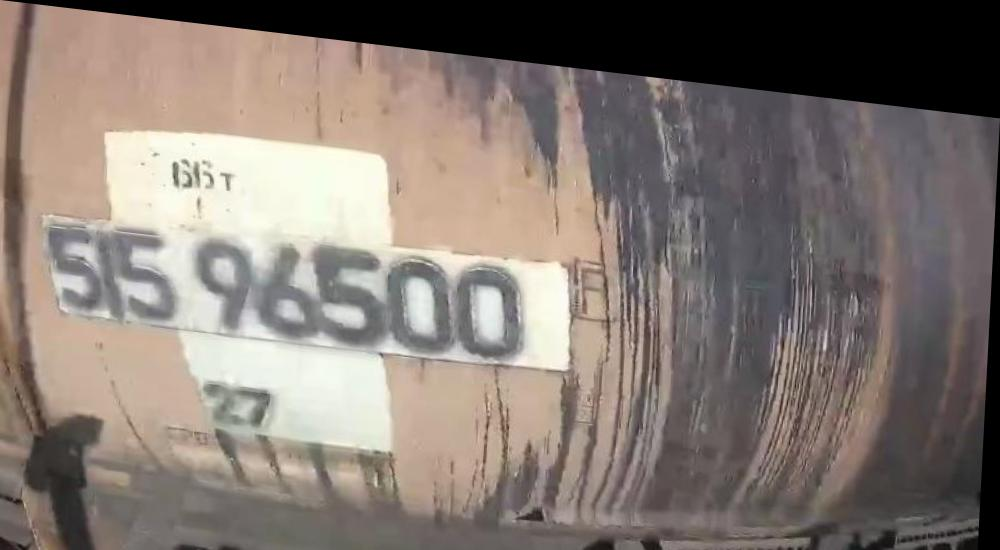Wagon-number: (39, 203, 539, 356)
